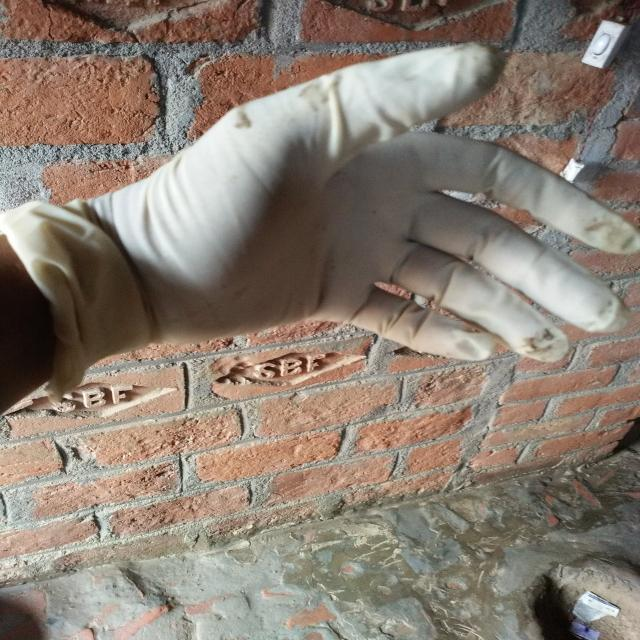glove_hand: (2, 38, 638, 400)
